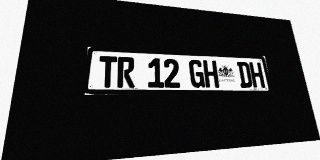1: (147, 58, 164, 88)
2: (163, 58, 180, 88)
D: (237, 61, 253, 88)
G: (189, 59, 205, 88)
H: (203, 60, 219, 88), (249, 62, 265, 88)
R: (117, 57, 135, 88)
T: (98, 56, 117, 88)
